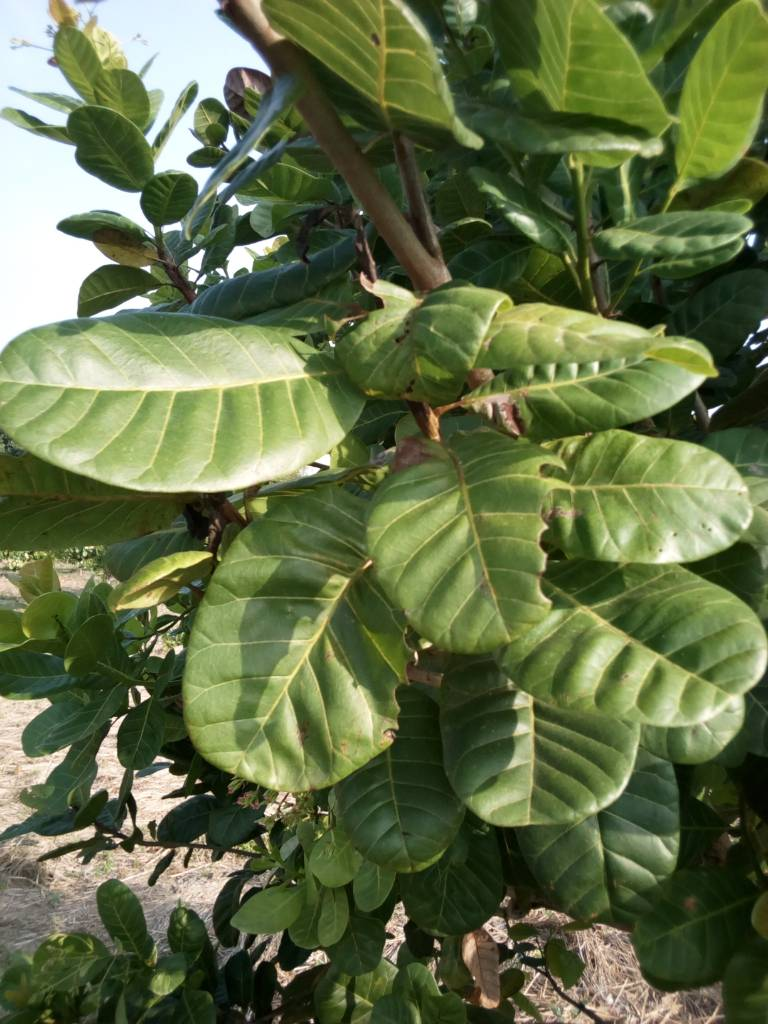Helopeltis anacardii: (196, 488, 394, 788), (382, 421, 547, 649), (354, 272, 493, 405)
